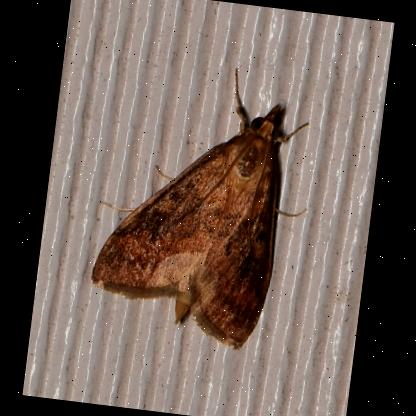Asian Corn Borer Moth: (81, 49, 324, 358)
